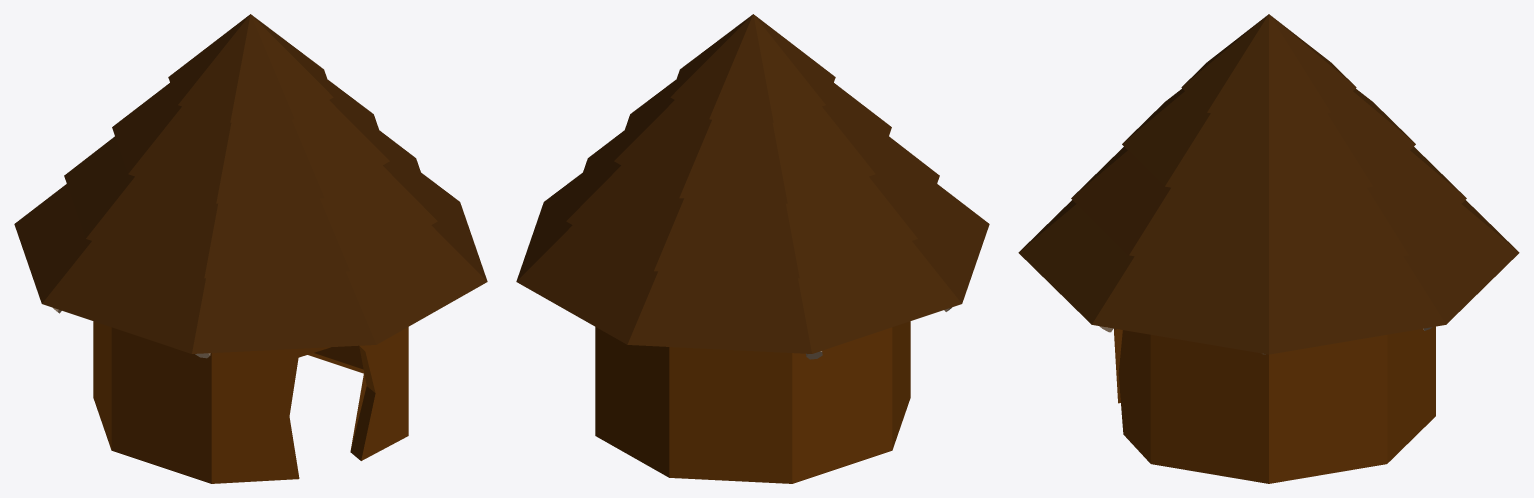
File: hut1blend.fbx
3 renders of one model, left to right at view 1: azimuth 30°, elevation 25°; view 2: azimuth 150°, elevation 25°; view 3: azimuth 270°, elevation 25°, orthographic.
Visible parts, largest first — view 1: Cylinder.004, Cylinder, Cylinder.003, Cylinder.014, Cylinder.001, Cylinder.013; view 2: Cylinder, Cylinder.004, Cylinder.003, Cylinder.014, Cylinder.001, Cylinder.013; view 3: Cylinder, Cylinder.004, Cylinder.003, Cylinder.014, Cylinder.001, Cylinder.013.
Part boxes in pixels (<box>): Cylinder.004: <box>14,173,487,353</box>; Cylinder: <box>93,321,408,483</box>; Cylinder.003: <box>64,130,437,278</box>; Cylinder.014: <box>112,80,389,203</box>; Cylinder.001: <box>168,14,333,122</box>; Cylinder.013: <box>66,134,436,276</box>; Cylinder: <box>595,321,910,483</box>; Cylinder.004: <box>516,173,989,353</box>; Cylinder.003: <box>566,130,939,278</box>; Cylinder.014: <box>614,80,891,203</box>; Cylinder.001: <box>670,14,835,122</box>; Cylinder.013: <box>570,132,938,277</box>; Cylinder: <box>1114,326,1435,483</box>; Cylinder.004: <box>1018,200,1519,354</box>; Cylinder.003: <box>1071,147,1466,278</box>; Cylinder.014: <box>1122,88,1415,203</box>; Cylinder.001: <box>1181,14,1356,122</box>; Cylinder.013: <box>1072,149,1465,278</box>.
Size of the model in its own units: 3407 by 3139 by 3544.
